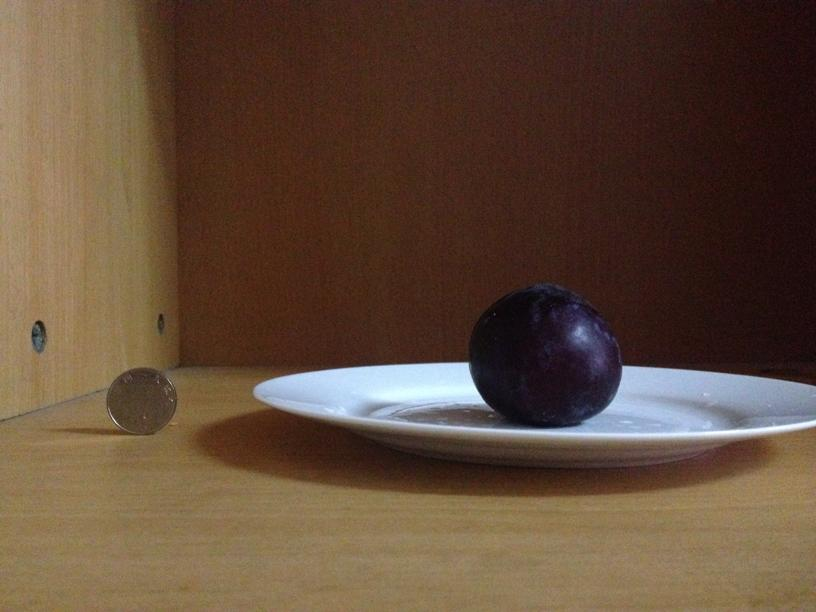coin: (99, 365, 177, 432)
plum: (466, 280, 620, 429)
